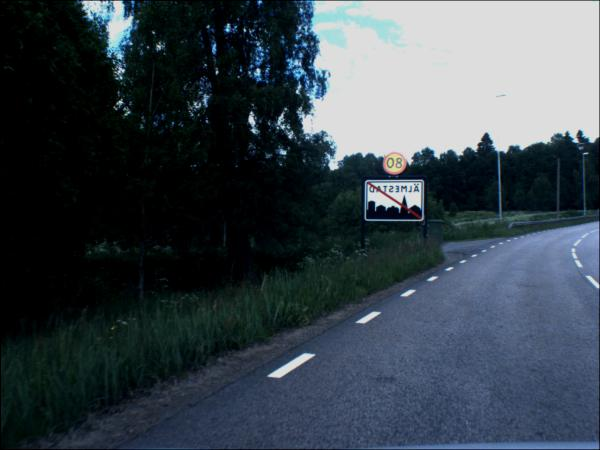80_SIGN: (382, 153, 407, 177)
